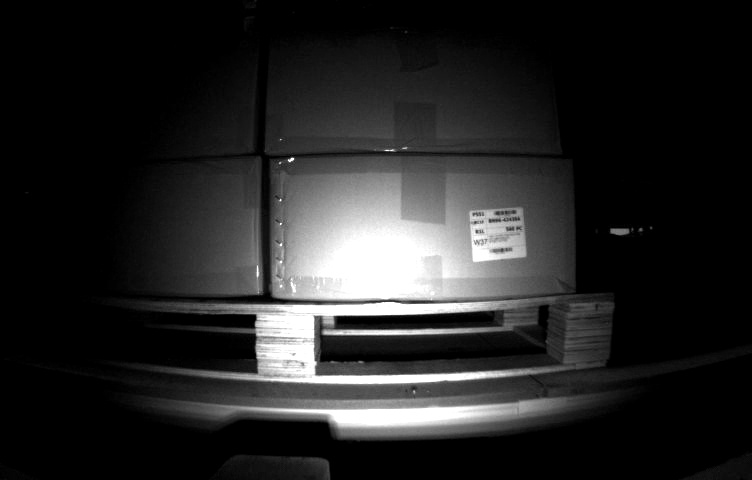True Barcode: (467, 208, 529, 264)
